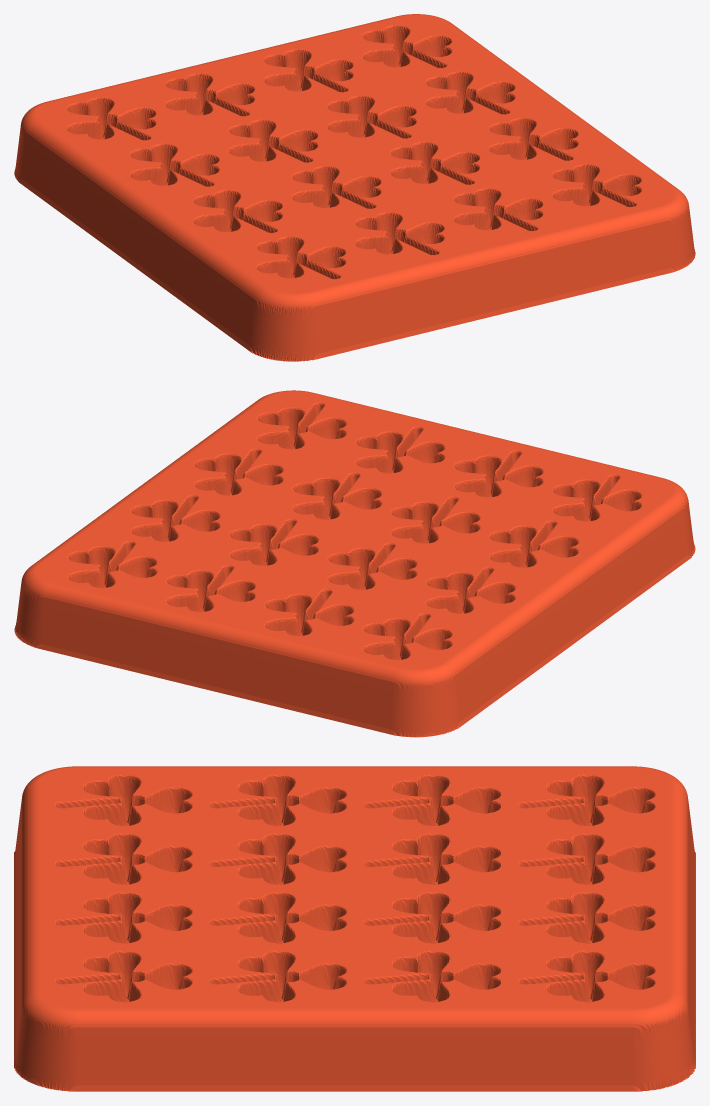
The model's file is mold.glb.
3 views of the same model, one above another, from view 1: azimuth 30°, elevation 25°; view 2: azimuth 150°, elevation 25°; view 3: azimuth 270°, elevation 25° (orthographic). The views are drawn at different scales.
Parts seen in each view (by area): view 1: geometry_0; view 2: geometry_0; view 3: geometry_0.
Boxes of the visible parts, x1=… form: geometry_0: x1=14, y1=14, x2=695, y2=361; geometry_0: x1=14, y1=390, x2=695, y2=737; geometry_0: x1=14, y1=766, x2=695, y2=1091.
Size of the model in its own units: 0.0884 by 0.0114 by 0.0972.
